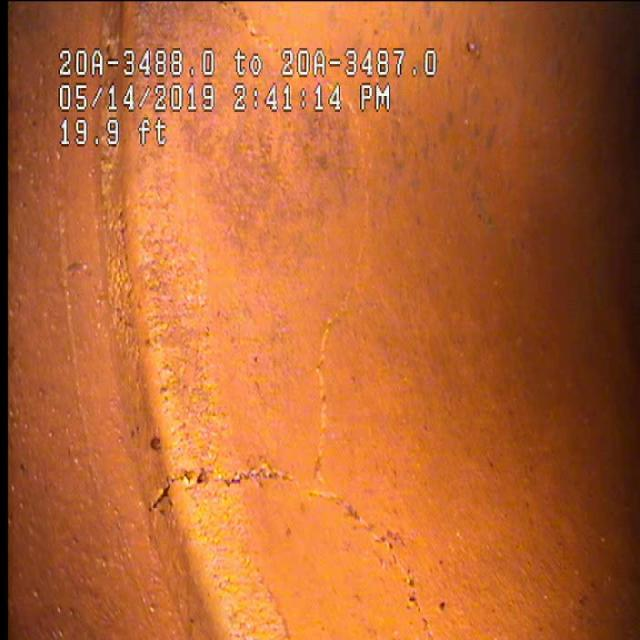Crack: (178, 282, 454, 616)
